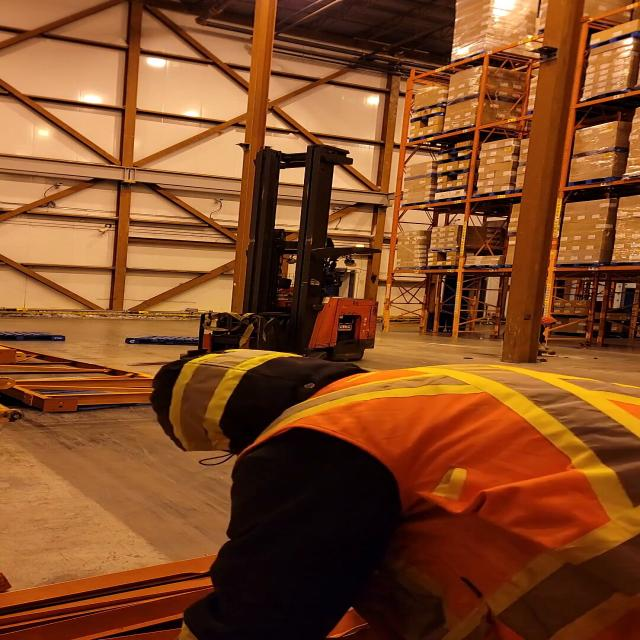forklift: (168, 152, 380, 378)
human: (139, 344, 638, 601), (508, 312, 564, 360)
objectofinterest: (0, 345, 183, 419), (123, 329, 207, 350), (0, 327, 72, 343)
